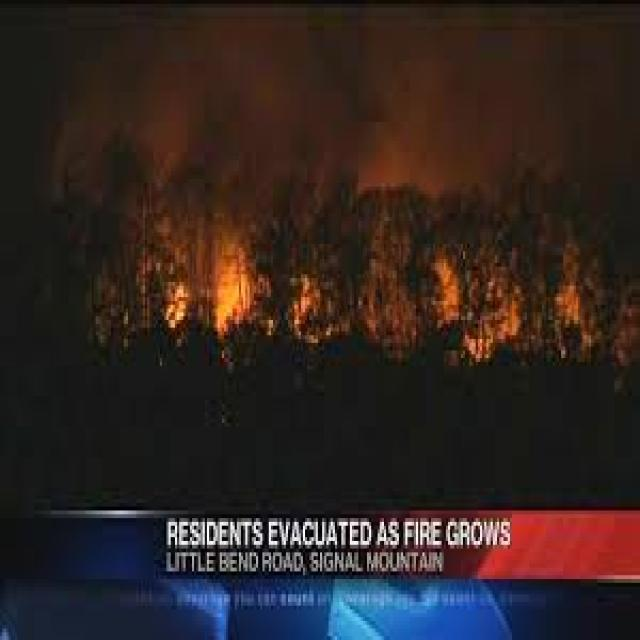Fire: (212, 246, 252, 340), (432, 262, 469, 352), (154, 267, 184, 343), (507, 286, 524, 342), (559, 280, 578, 320)
